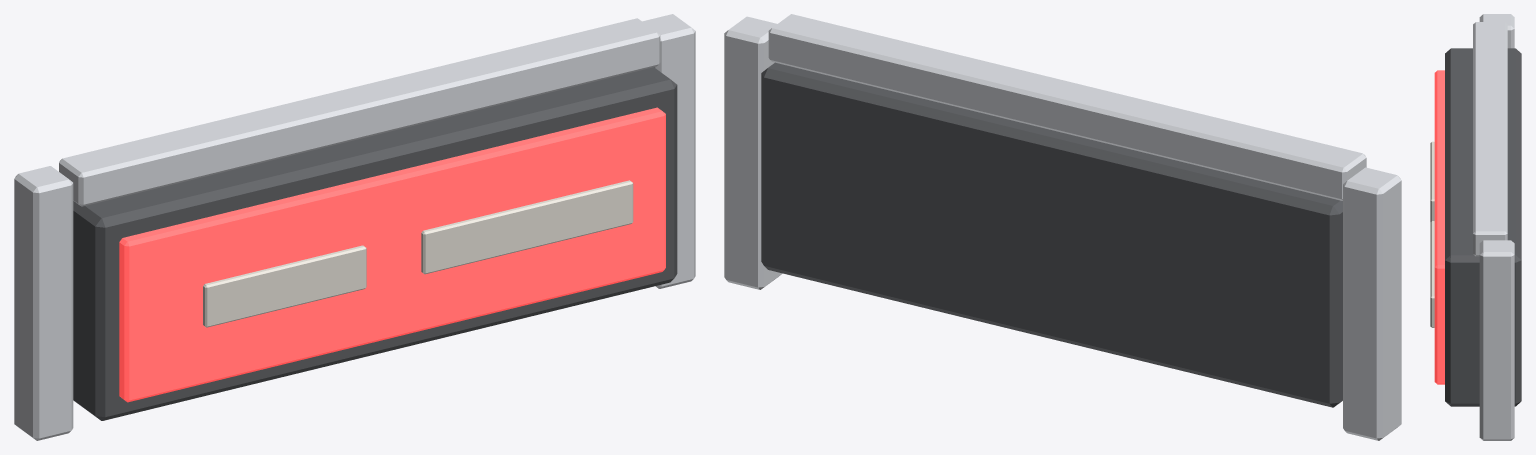
The model's file is 35508_On_Air_Light__TV_Studio_and_Broadcast_Gallery_.glb.
The picture shows the model from 3 angles, left to right: view 1: azimuth 30°, elevation 25°; view 2: azimuth 150°, elevation 25°; view 3: azimuth 270°, elevation 25°; orthographic projection. The views are drawn at different scales.
Parts seen in each view (by area): view 1: on-air-light; view 2: on-air-light; view 3: on-air-light.
Part boxes in pixels (x1=…): on-air-light: x1=14, y1=14, x2=695, y2=440; on-air-light: x1=724, y1=14, x2=1401, y2=440; on-air-light: x1=1430, y1=14, x2=1521, y2=440.
Bounding box in the file's own units: 0.82 × 0.31 × 0.131.
